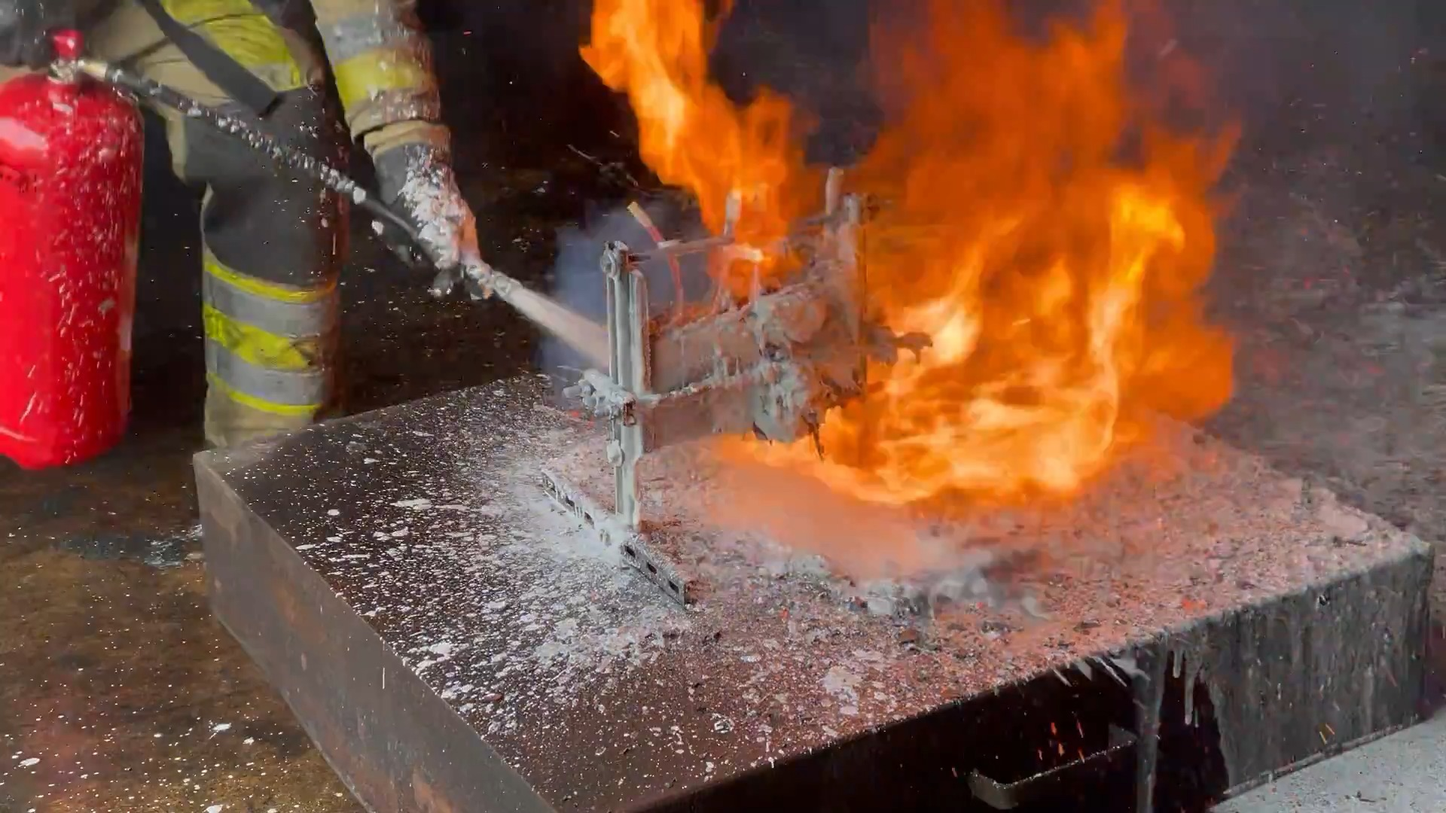fire: (578, 0, 1246, 532)
smoke: (549, 185, 638, 351)
